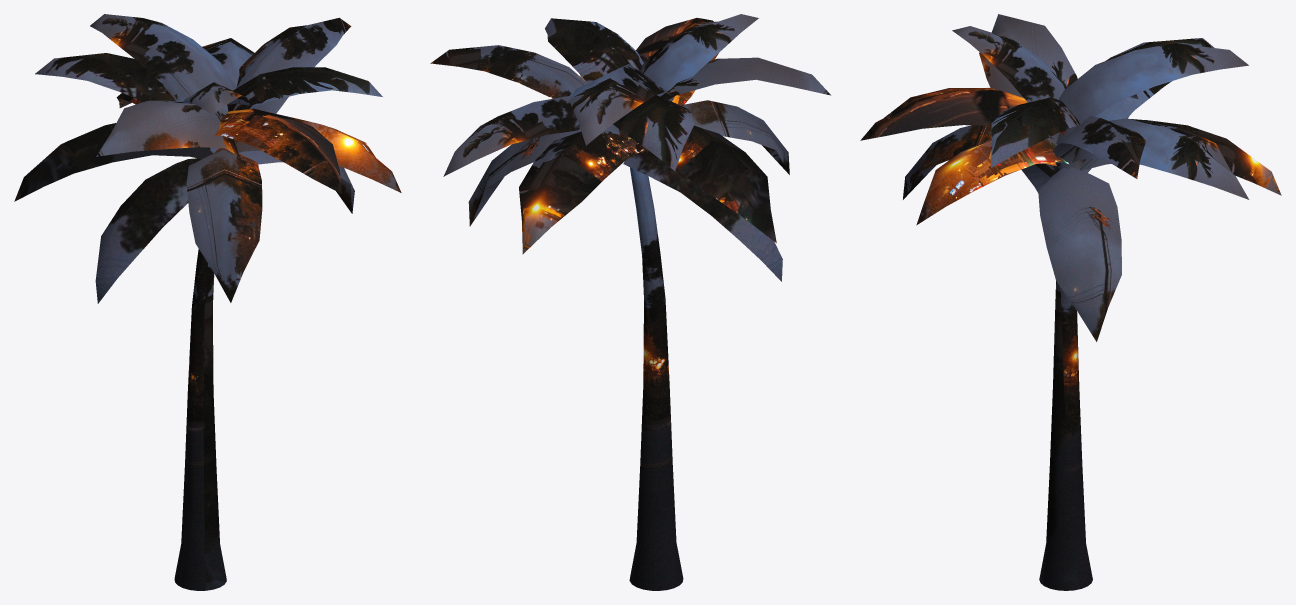
Rendered from Dark_Photo_Rm_Palm.fbx.
3 views of the same model, side by side, from view 1: azimuth 30°, elevation 25°; view 2: azimuth 150°, elevation 25°; view 3: azimuth 270°, elevation 25° (orthographic). The views are drawn at different scales.
Parts seen in each view (by area): view 1: P_Dark_Photo_Rm_Palm; view 2: P_Dark_Photo_Rm_Palm; view 3: P_Dark_Photo_Rm_Palm.
Boxes of the visible parts, <box> form: P_Dark_Photo_Rm_Palm: <box>14,14,401,590</box>; P_Dark_Photo_Rm_Palm: <box>430,14,831,590</box>; P_Dark_Photo_Rm_Palm: <box>860,14,1281,590</box>.
Bounding box in the file's own units: 16.06 × 23.9 × 17.04.
